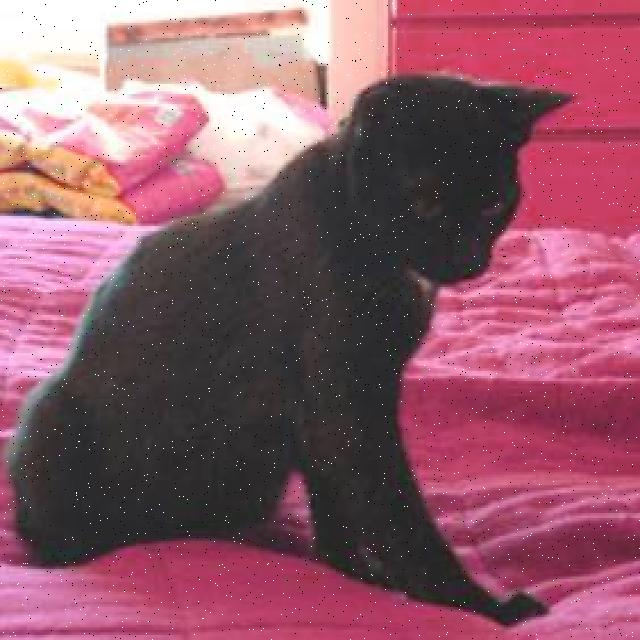Cat: (334, 61, 573, 302)
